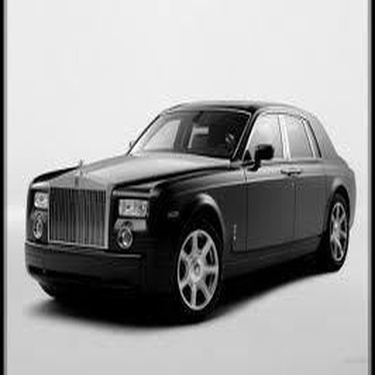car: (12, 96, 360, 329)
